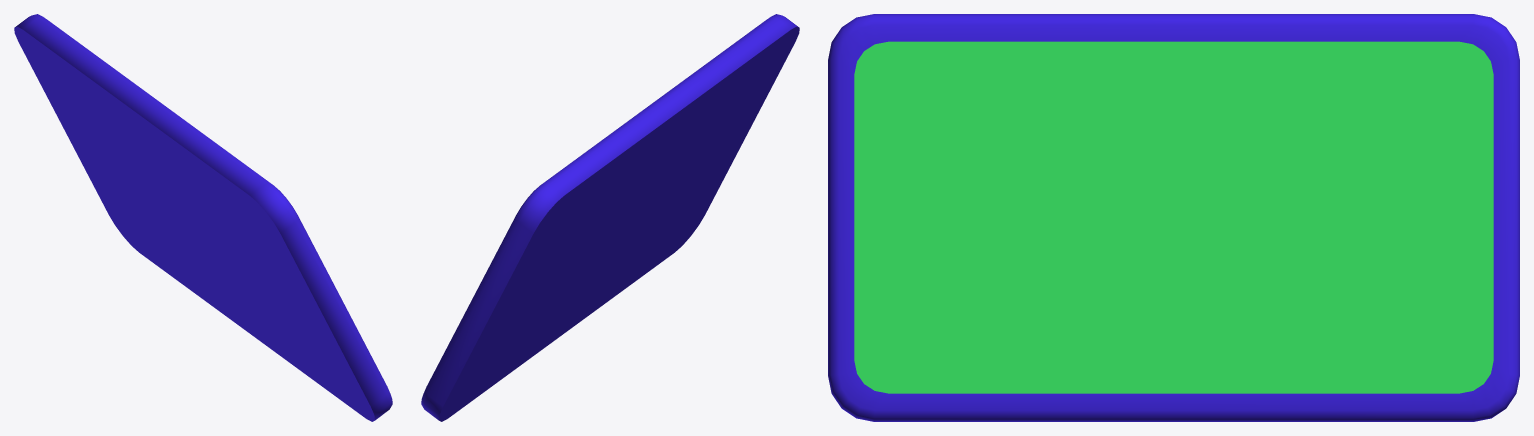
File: Display.fbx
3 renders of one model, left to right at view 1: azimuth 30°, elevation 25°; view 2: azimuth 150°, elevation 25°; view 3: azimuth 270°, elevation 25°, orthographic. The views are drawn at different scales.
Visible parts, largest first — view 1: Tablet; view 2: Tablet; view 3: Tablet.
Boxes of the visible parts, x1=… form: Tablet: x1=14, y1=14, x2=392, y2=421; Tablet: x1=421, y1=14, x2=799, y2=421; Tablet: x1=828, y1=14, x2=1519, y2=421.
Bounding box in the file's own units: 16.13 × 29.62 × 54.19.
